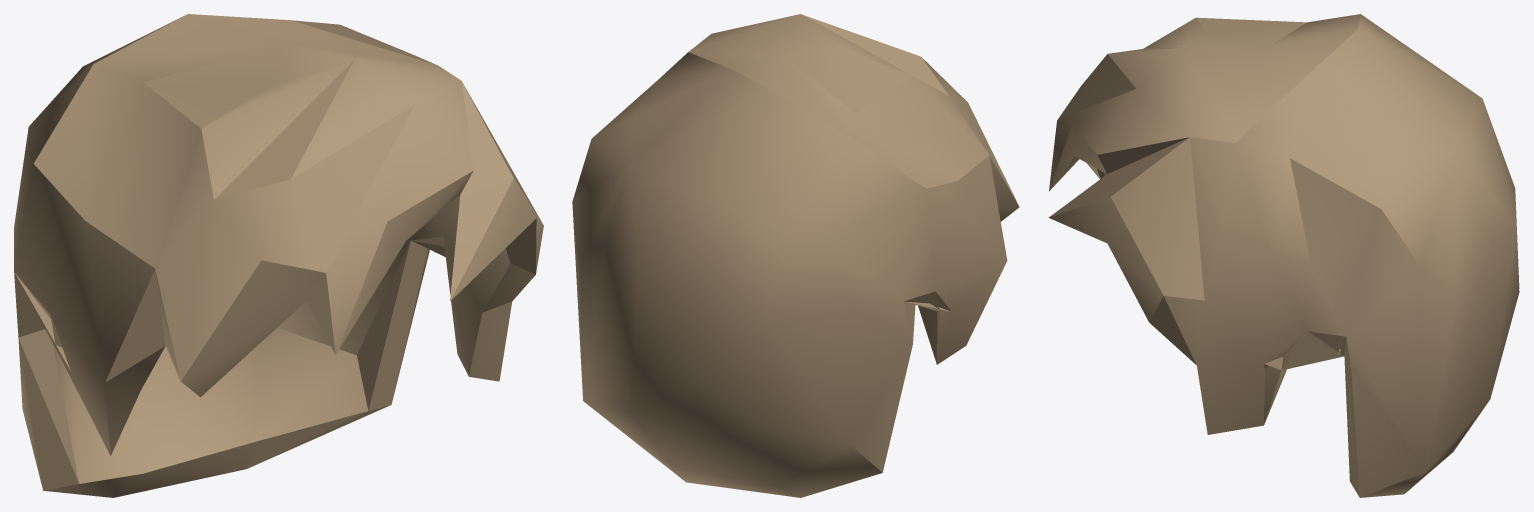
Rendered from CharliesHair.fbx.
The picture shows the model from 3 angles, left to right: view 1: azimuth 30°, elevation 25°; view 2: azimuth 150°, elevation 25°; view 3: azimuth 270°, elevation 25°; orthographic projection. The views are drawn at different scales.
Parts seen in each view (by area): view 1: Charlie; view 2: Charlie; view 3: Charlie.
Part boxes in pixels (x1,y1,x2,y2): Charlie: (14,14,543,497); Charlie: (572,14,1019,497); Charlie: (1048,14,1519,497).
Size of the model in its own units: 153 by 171 by 166.
